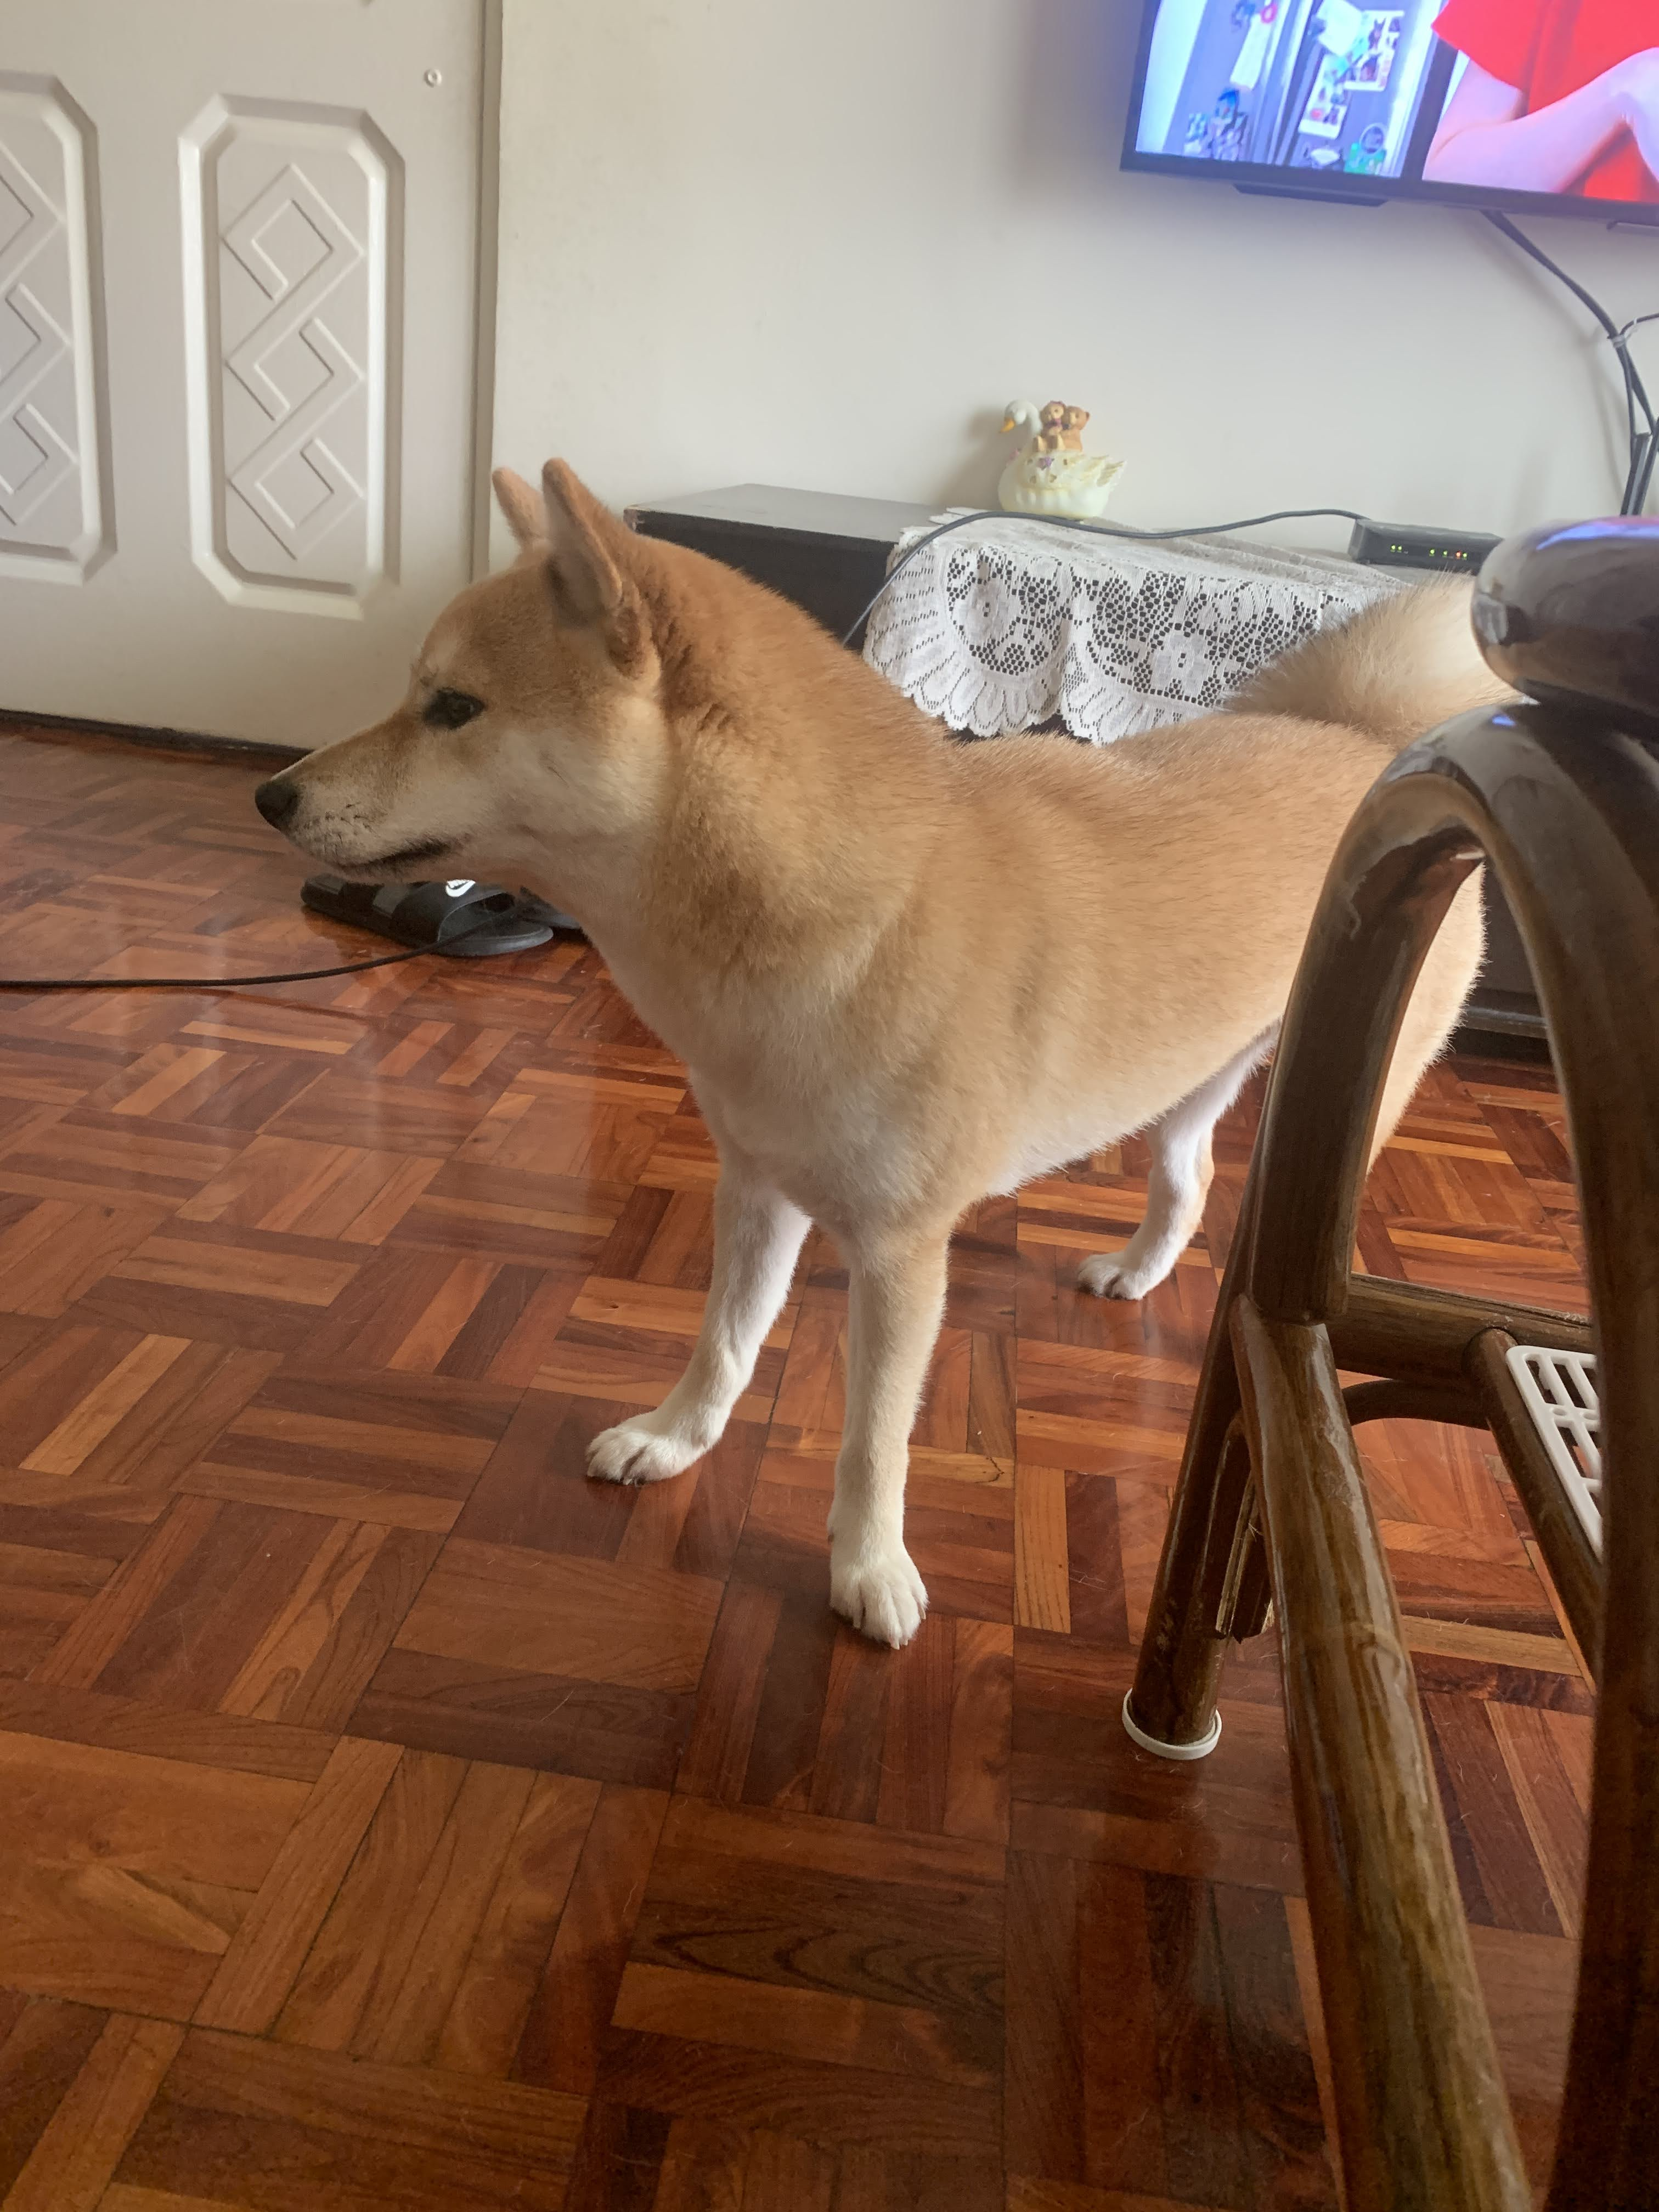Stand up: (230, 444, 1539, 1635)
